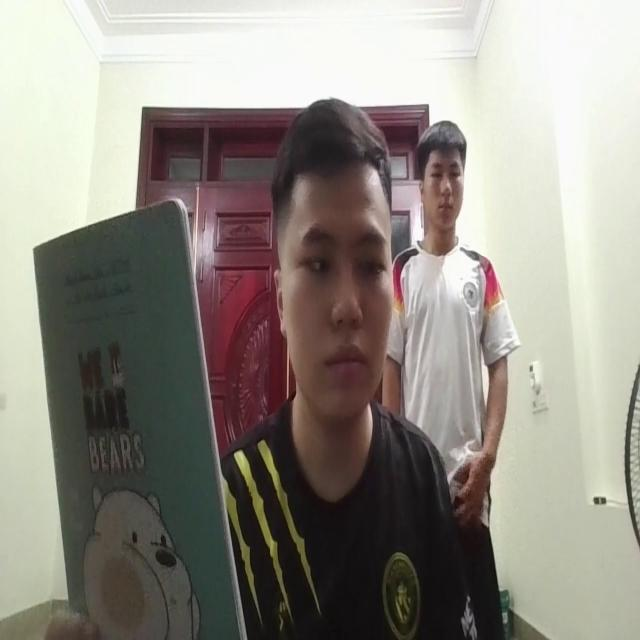book: (38, 210, 235, 640)
extra_person: (394, 126, 507, 496)
student: (263, 99, 396, 640)
